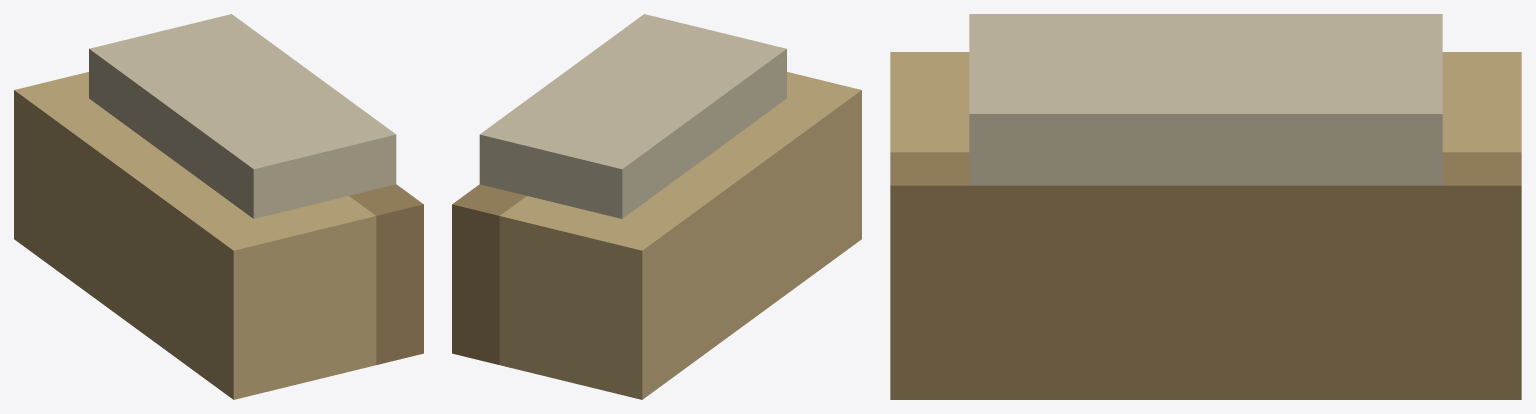
The model's file is right_pauldron.glb.
3 views of the same model, side by side, from view 1: azimuth 30°, elevation 25°; view 2: azimuth 150°, elevation 25°; view 3: azimuth 270°, elevation 25° (orthographic). The views are drawn at different scales.
Size of the model in its own units: 4 by 4 by 8.
